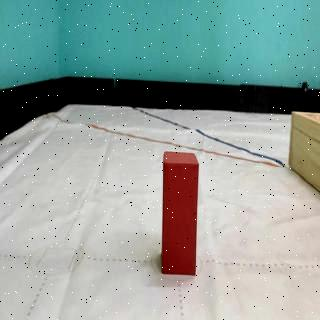redbox: (164, 152, 197, 274)
